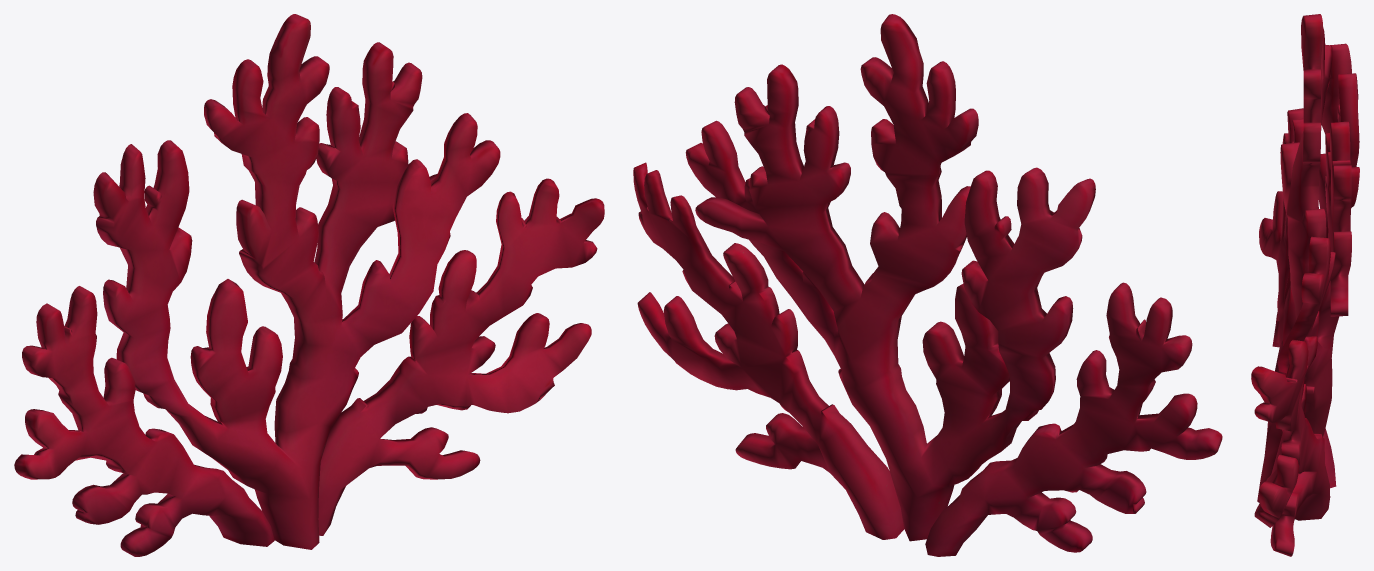
The model's file is seaweed_fan.glb.
The picture shows the model from 3 angles, left to right: view 1: azimuth 30°, elevation 25°; view 2: azimuth 150°, elevation 25°; view 3: azimuth 270°, elevation 25°; orthographic projection. The views are drawn at different scales.
Visible parts, largest first — view 1: tripo_9cfe2627_c543_4cfd_ac0c_82e8d8ecebe9; view 2: tripo_9cfe2627_c543_4cfd_ac0c_82e8d8ecebe9; view 3: tripo_9cfe2627_c543_4cfd_ac0c_82e8d8ecebe9.
Part boxes in pixels (left/top/right/bottom): tripo_9cfe2627_c543_4cfd_ac0c_82e8d8ecebe9: left=14, top=14, right=604, bottom=556; tripo_9cfe2627_c543_4cfd_ac0c_82e8d8ecebe9: left=633, top=14, right=1222, bottom=556; tripo_9cfe2627_c543_4cfd_ac0c_82e8d8ecebe9: left=1251, top=14, right=1359, bottom=556.
Bounding box in the file's own units: 1.1 × 0.9168 × 0.1832.
Materials: 1 (1 with a texture image).
